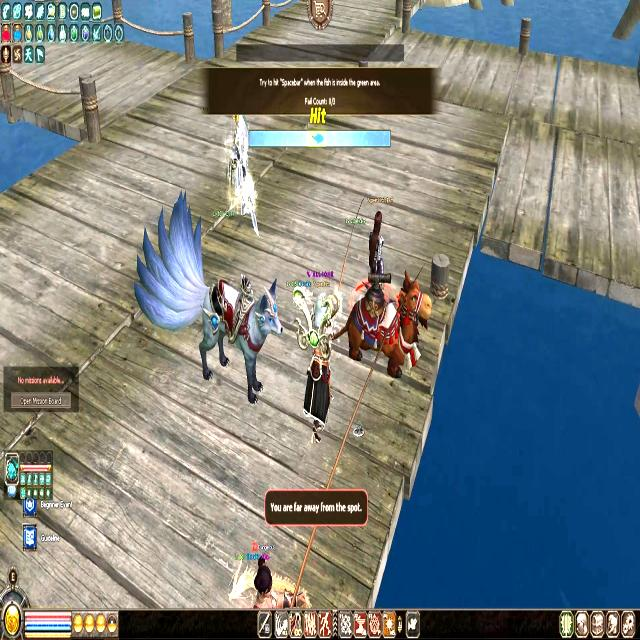fishes: (312, 132, 324, 146)
